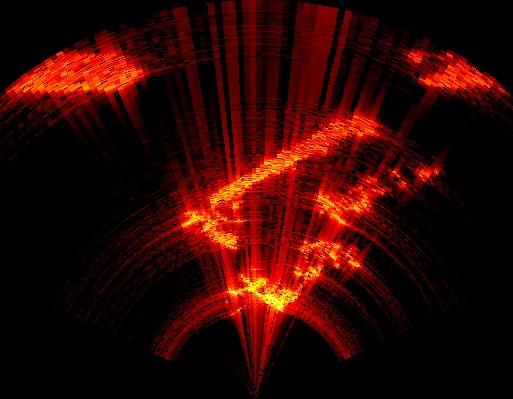shipwreck: (183, 117, 378, 248), (229, 241, 360, 311), (314, 178, 385, 226)
